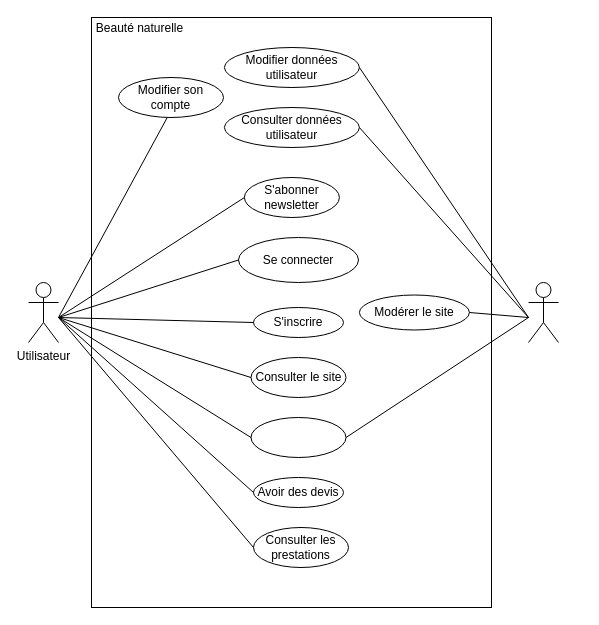
Some shapes in this 599 by 625 pixel diagram are drawn without their labels. Each missing label, with the centre of its shape:
"Administrateur" belongs at point (543, 312).
"Publier sur le site" belongs at point (298, 437).
